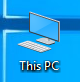pc: (15, 9, 63, 74)
